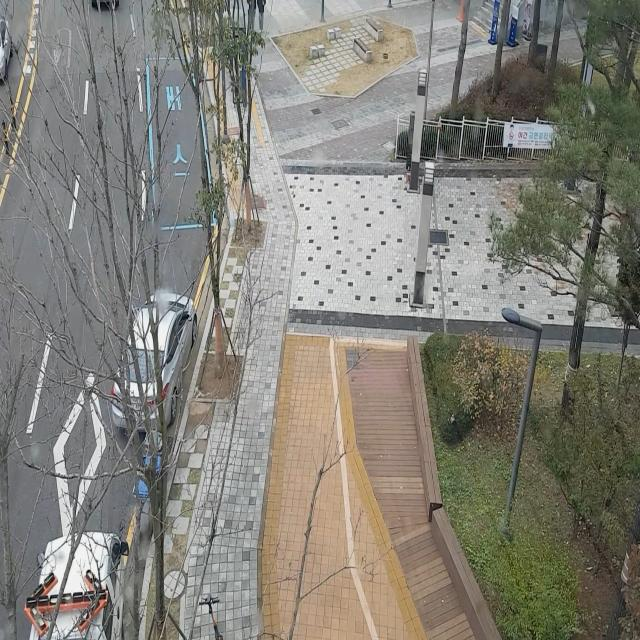Car: (95, 273, 216, 448), (0, 11, 17, 91)
Truck: (18, 509, 139, 640)
